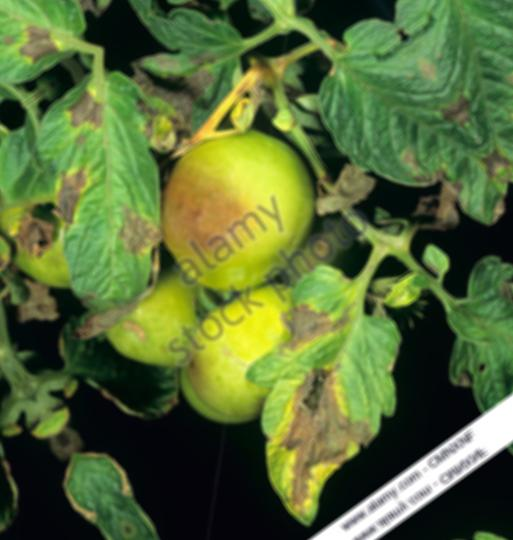Tomato leaf late blight: (182, 246, 475, 535), (0, 47, 249, 335), (270, 0, 513, 281)
